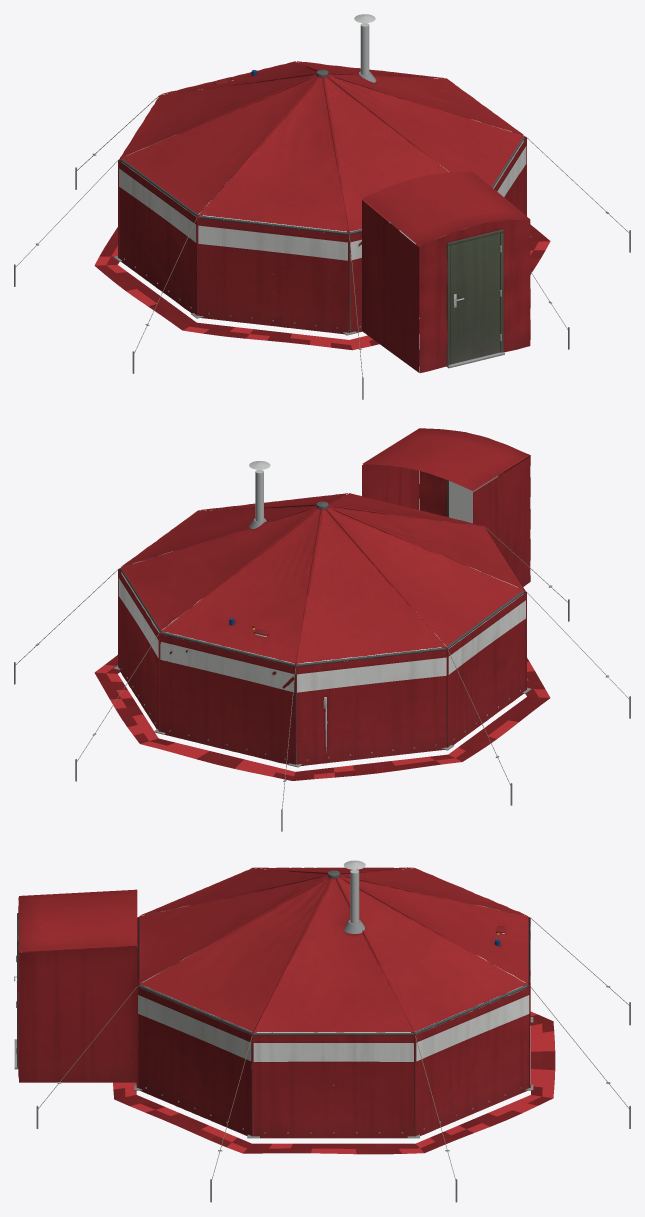
The model's file is polar-chief-deployed-fitted.glb.
The picture shows the model from 3 angles, top to bottom: view 1: azimuth 30°, elevation 25°; view 2: azimuth 150°, elevation 25°; view 3: azimuth 270°, elevation 25°; orthographic projection. The views are drawn at different scales.
Visible parts, largest first — view 1: POLARCHIEF_shelter; view 2: POLARCHIEF_shelter, POLARCHIEF_interior; view 3: POLARCHIEF_shelter, POLARCHIEF_interior.
Part boxes in pixels (box(x1,y1,x2,y2)): POLARCHIEF_shelter: box(14, 14, 630, 399); POLARCHIEF_shelter: box(14, 428, 630, 831); POLARCHIEF_interior: box(121, 521, 523, 663); POLARCHIEF_shelter: box(14, 860, 630, 1202); POLARCHIEF_interior: box(141, 905, 525, 1085).
Bounding box in the file's own units: 8.52 × 3.81 × 8.85.
Materials: 43 (12 with a texture image).
